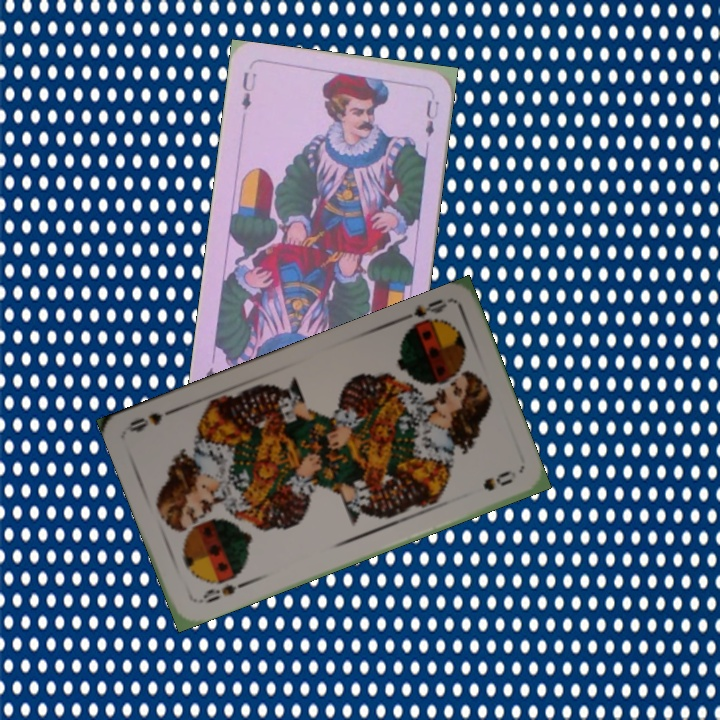EU: (237, 68, 259, 112)
SO: (394, 295, 451, 336), (192, 577, 250, 606)
